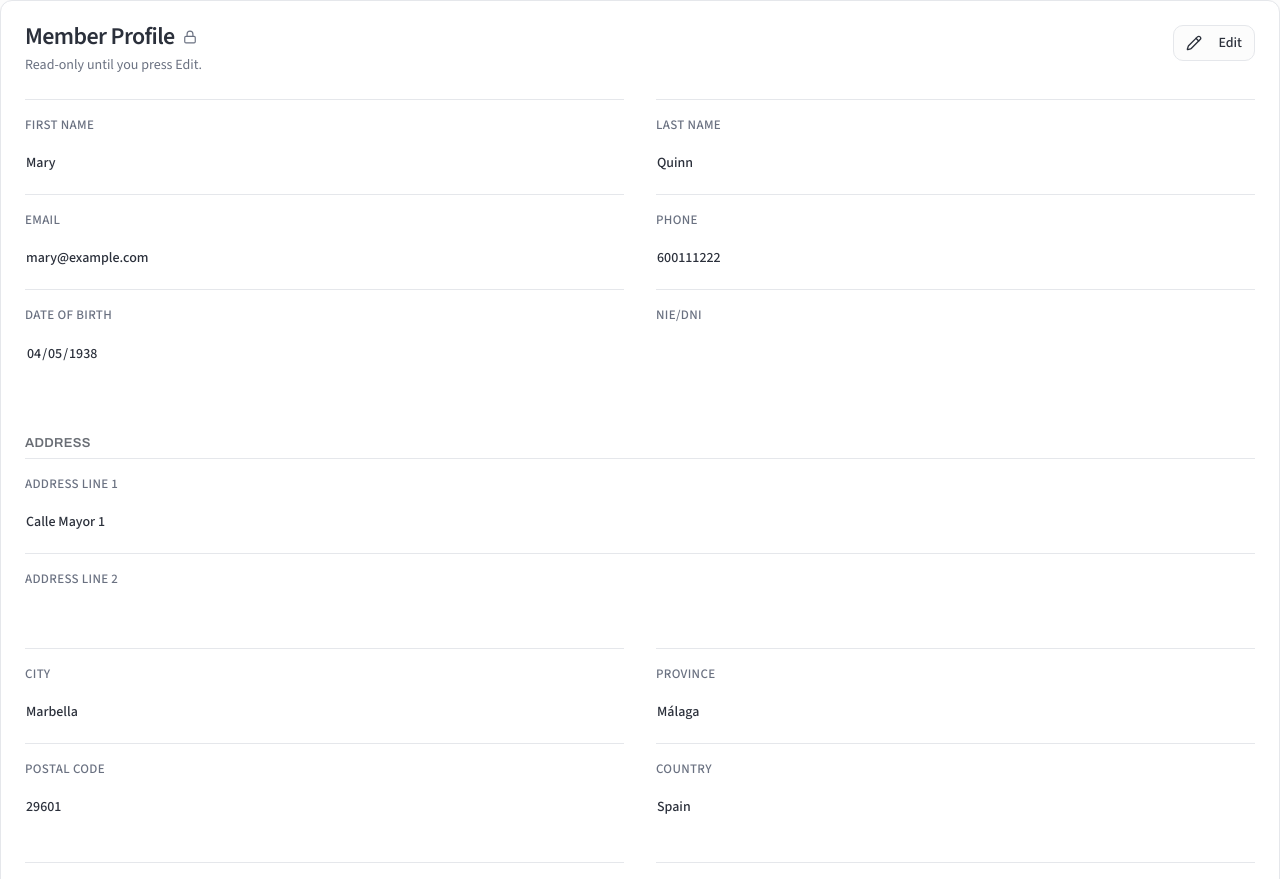
Test: the profile card › Edit unlocks the whole card at once
The width and height of the screenshot is (1280, 879).
Click the button with test id "profile-card-edit".
click(1214, 43)  # box [1173, 25, 1255, 61]
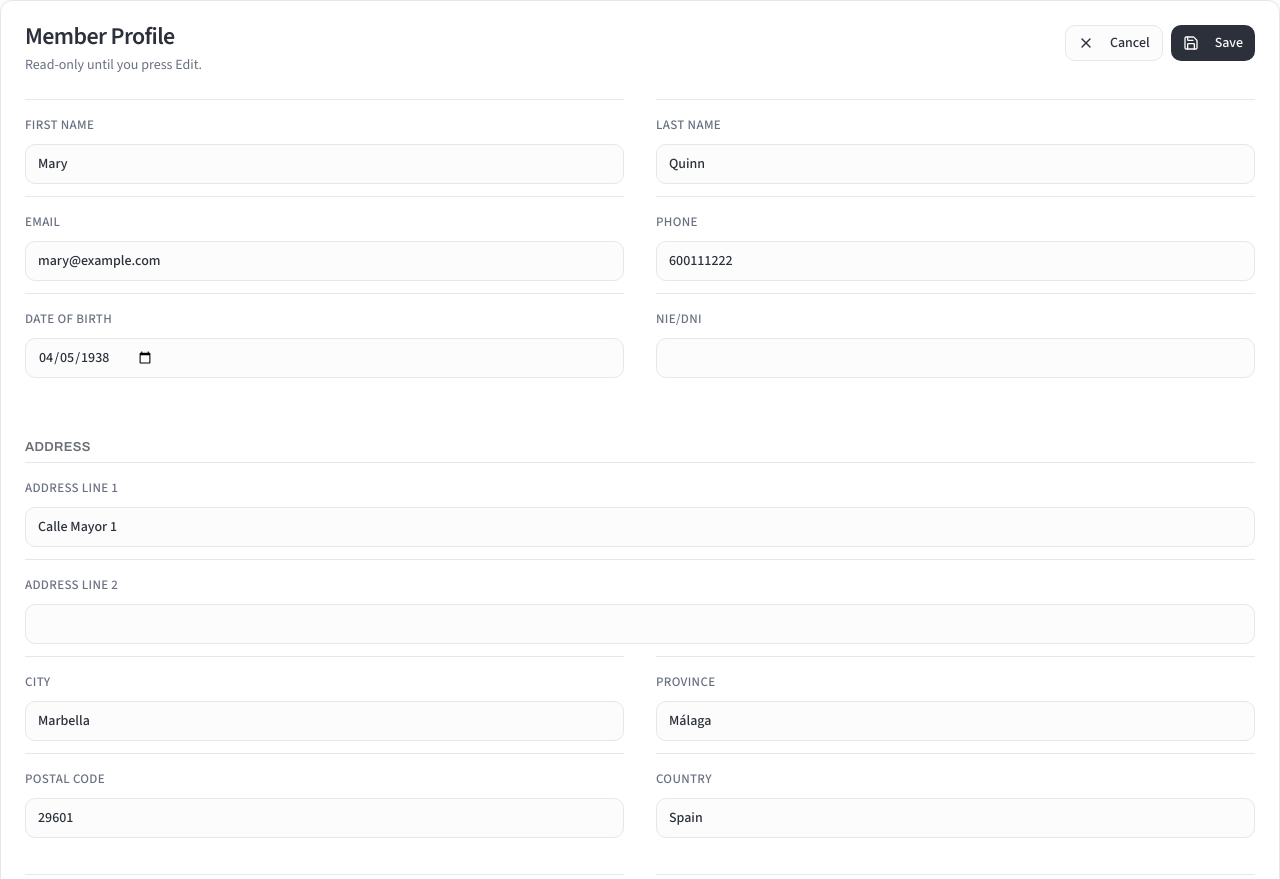
Expected: the icon with test id "profile-card-lock" is gone
Expected: the button with test id "profile-card-save" is shown, [1171, 25, 1255, 61]
